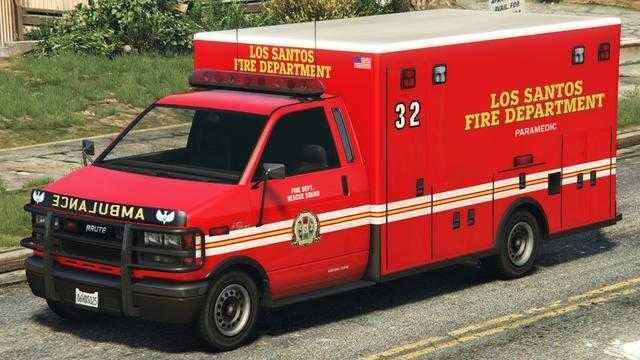car: (19, 8, 622, 352)
